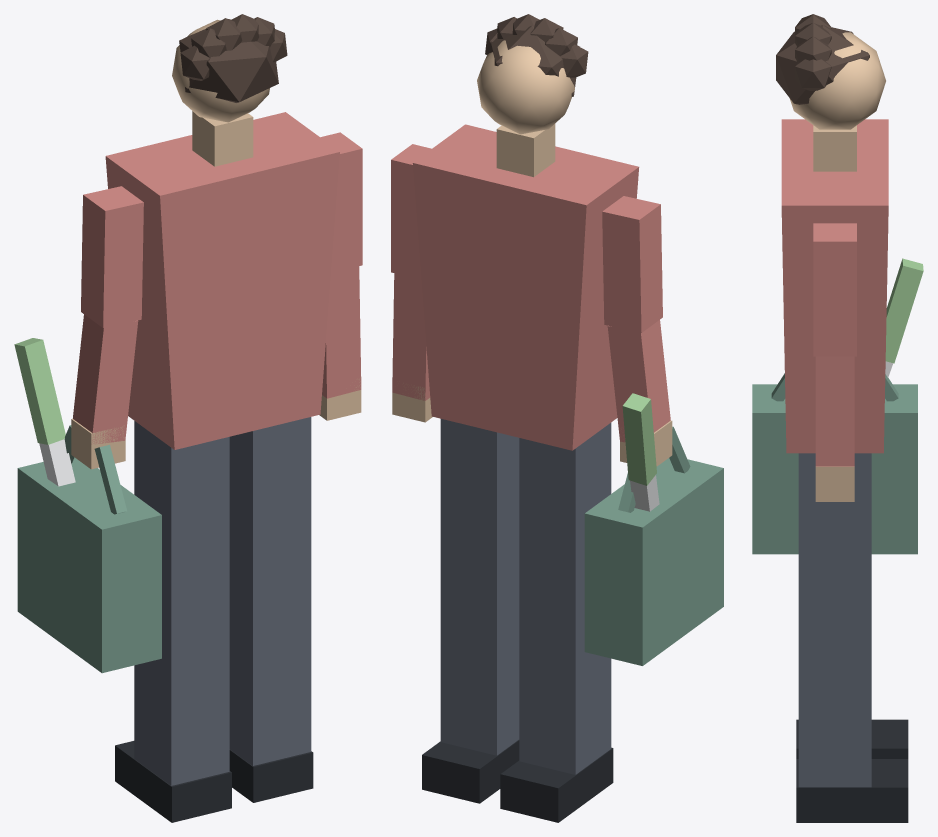
File: gossip.glb
The picture shows the model from 3 angles, left to right: view 1: azimuth 30°, elevation 25°; view 2: azimuth 150°, elevation 25°; view 3: azimuth 270°, elevation 25°; orthographic projection. The views are drawn at different scales.
Visible parts, largest first — view 1: Body, LegL, LegR; view 2: Body, LegL, LegR; view 3: Body, LegR, LegL.
Boxes of the visible parts, left/top/right/bottom form: Body: left=14, top=14, right=362, bottom=673; LegL: left=115, top=421, right=231, bottom=822; LegR: left=229, top=417, right=313, bottom=802; Body: left=391, top=14, right=723, bottom=665; LegL: left=500, top=422, right=613, bottom=822; LegR: left=422, top=419, right=519, bottom=803; Body: left=752, top=14, right=923, bottom=554; LegR: left=796, top=453, right=908, bottom=822; LegL: left=796, top=719, right=908, bottom=758.
Bounding box in the file's own units: 0.6819 × 1.75 × 0.3517.
